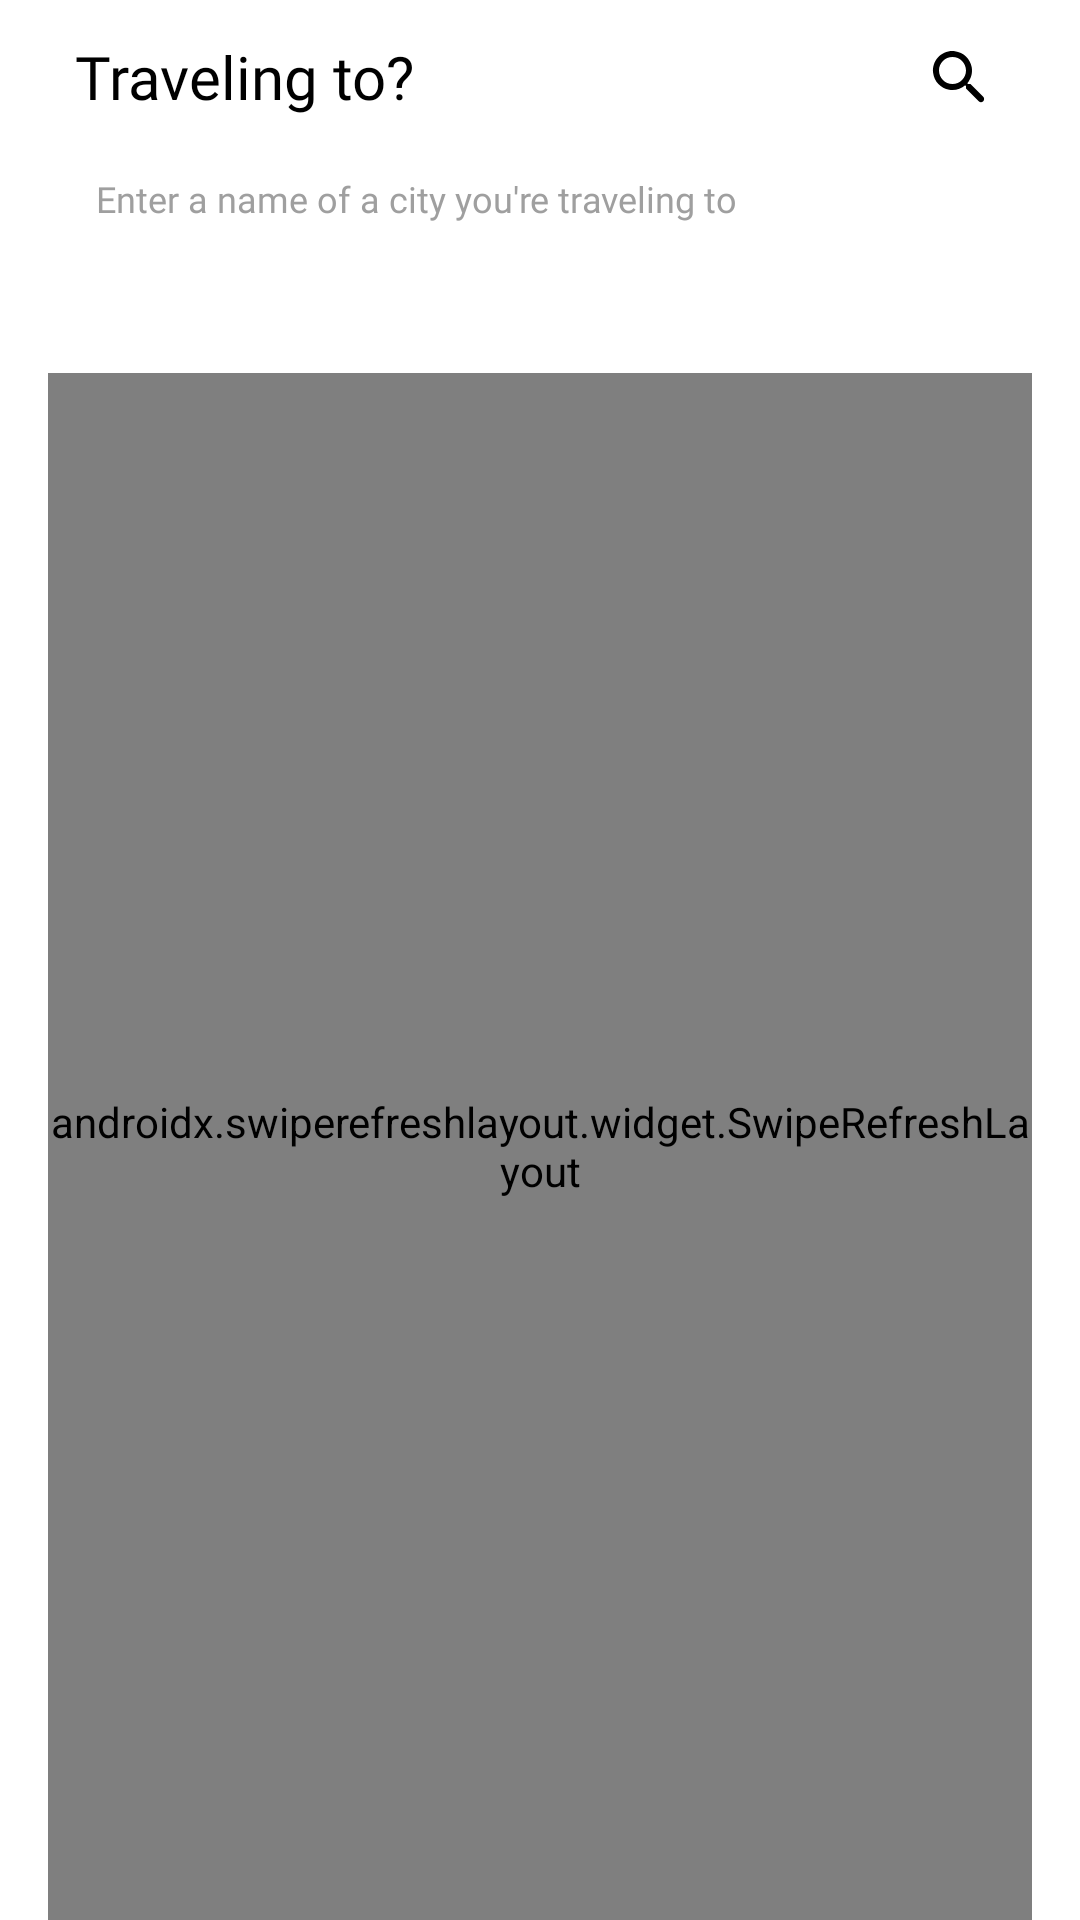

Where to tap for icons on this 1080×1920 app screen, as [x,y]:
search city: [958,77]
